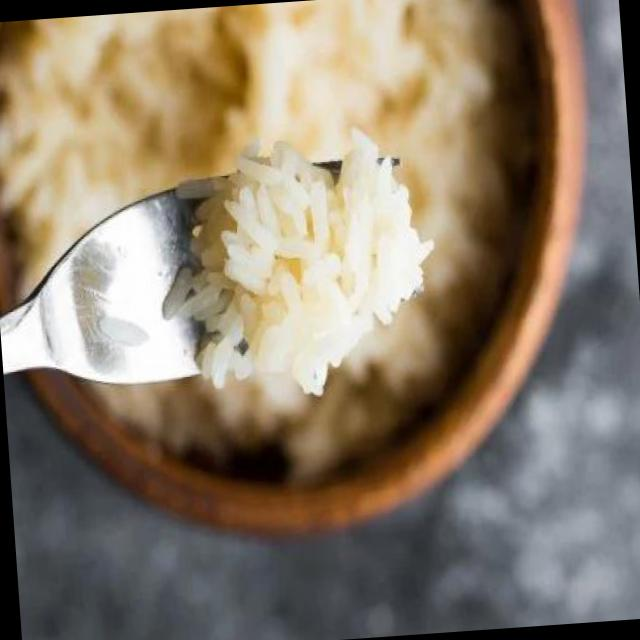rice: (164, 131, 435, 409)
